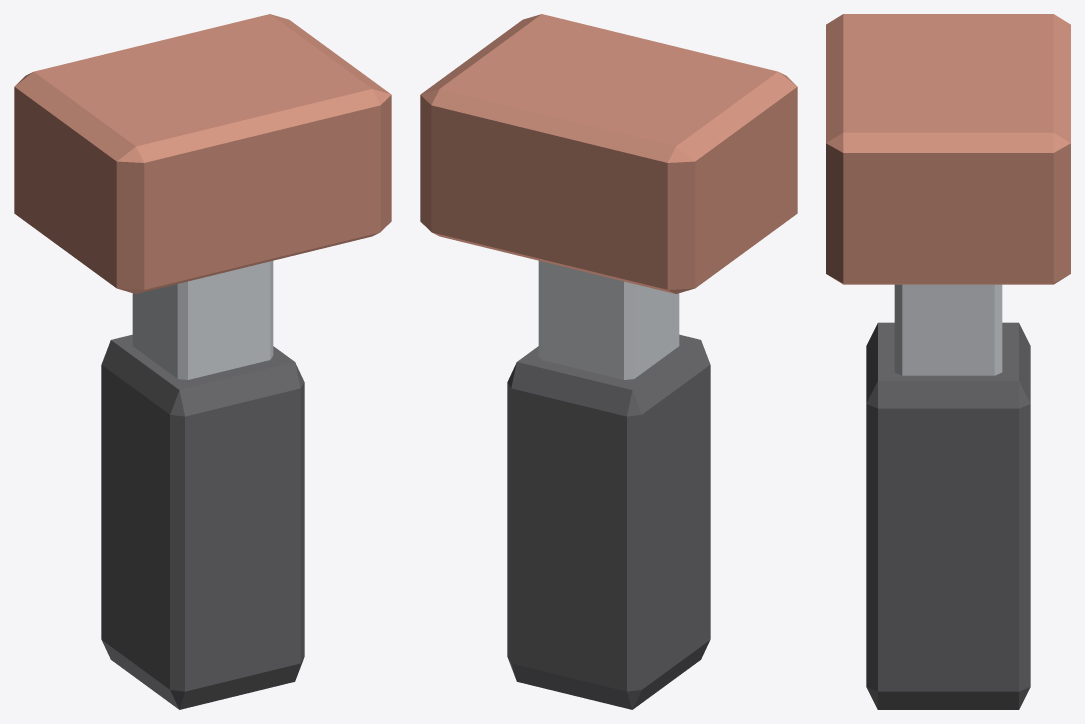
File: b06_masonry_bolster.glb
3 views of the same model, side by side, from view 1: azimuth 30°, elevation 25°; view 2: azimuth 150°, elevation 25°; view 3: azimuth 270°, elevation 25° (orthographic). The views are drawn at different scales.
Parts seen in each view (by area): view 1: b06_masonry_bolster; view 2: b06_masonry_bolster; view 3: b06_masonry_bolster.
Part boxes in pixels (box(x1,y1,x2,y2)): b06_masonry_bolster: box(14, 14, 391, 709); b06_masonry_bolster: box(420, 14, 797, 709); b06_masonry_bolster: box(826, 14, 1070, 709).
Size of the model in its own units: 0.112 by 0.23 by 0.084.
